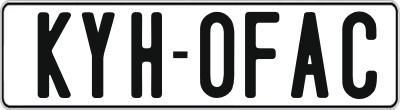0: (199, 12, 239, 101)
A: (289, 9, 329, 99)
C: (341, 12, 376, 104)
F: (244, 9, 278, 97)
H: (131, 10, 164, 97)
K: (35, 11, 72, 102)
Y: (79, 11, 117, 103)
